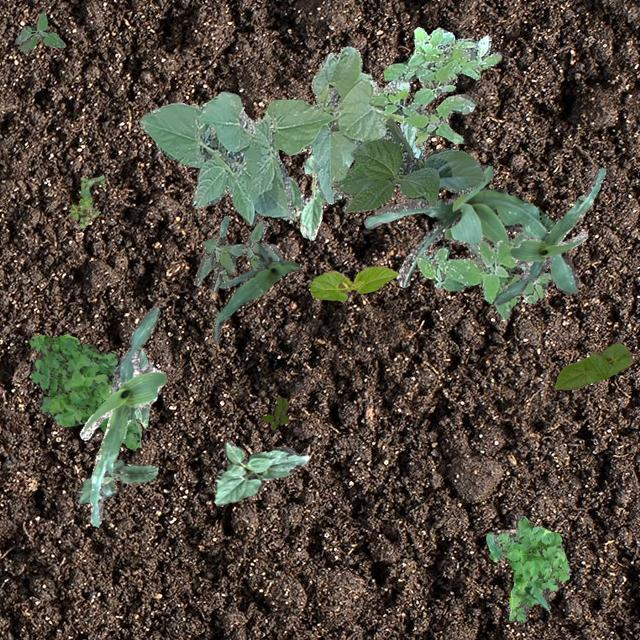crop: (138, 46, 424, 224), (364, 163, 576, 294), (78, 306, 165, 526), (494, 166, 604, 304), (330, 116, 484, 212), (212, 242, 298, 344), (212, 442, 308, 504), (282, 152, 326, 238), (76, 458, 156, 504), (554, 342, 630, 388), (310, 266, 398, 300), (132, 348, 152, 426)
weed: (368, 26, 500, 148), (28, 332, 140, 448), (414, 230, 550, 318), (484, 514, 570, 622), (194, 214, 282, 290), (14, 10, 64, 50), (68, 175, 104, 228), (262, 396, 288, 428)
